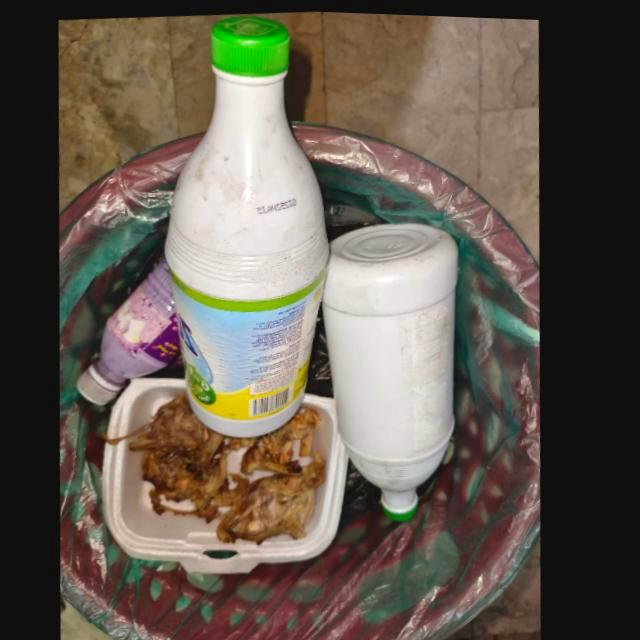left_over_food: (223, 451, 331, 542), (106, 393, 230, 460), (148, 444, 233, 521), (244, 406, 326, 474)
plastic_bottle: (168, 11, 334, 435), (325, 217, 461, 518), (81, 255, 184, 403)
